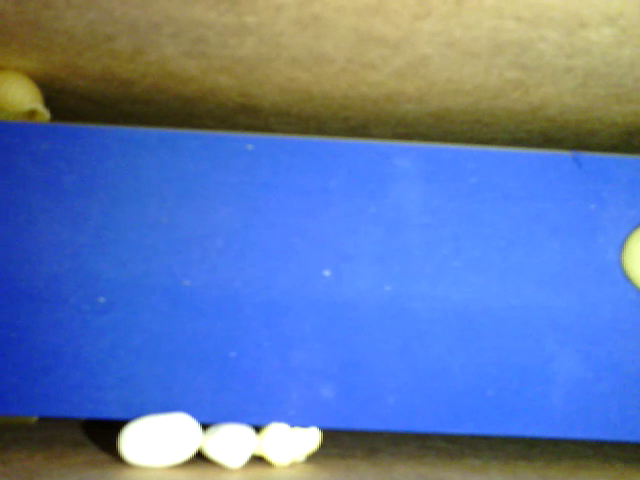shell: (1, 71, 55, 125)
